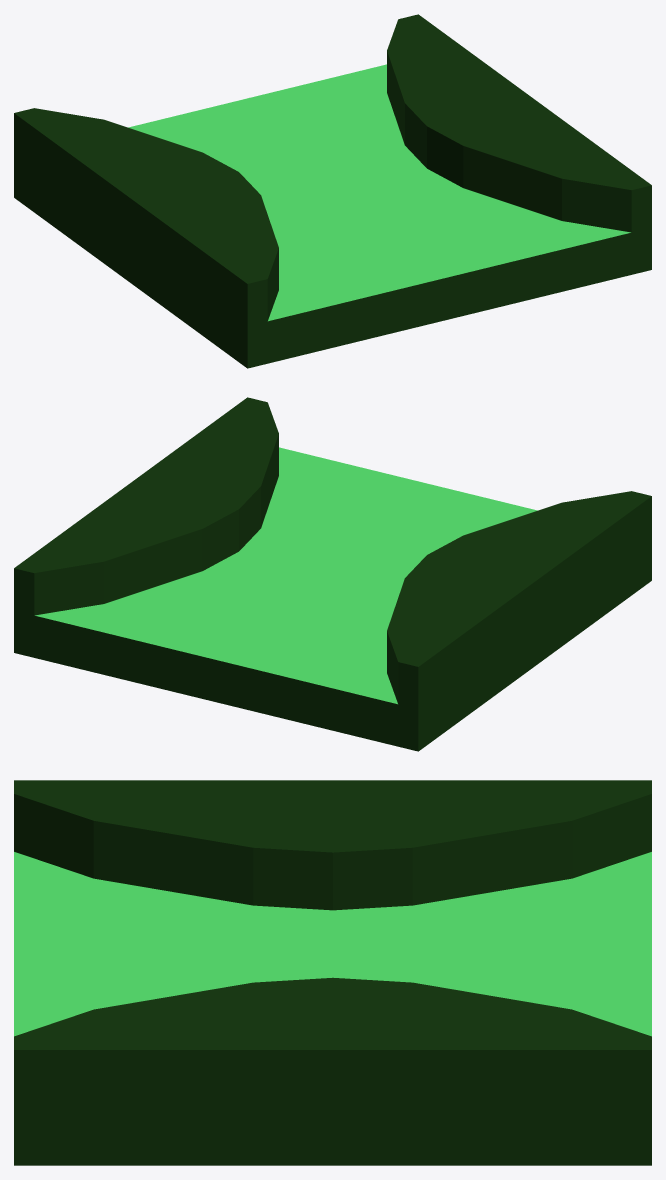
The model's file is MG Straight Curves.fbx.
The picture shows the model from 3 angles, top to bottom: view 1: azimuth 30°, elevation 25°; view 2: azimuth 150°, elevation 25°; view 3: azimuth 270°, elevation 25°; orthographic projection. The views are drawn at different scales.
Parts seen in each view (by area): view 1: MG Straight Curves; view 2: MG Straight Curves; view 3: MG Straight Curves.
Boxes of the visible parts, box(x1,y1,x2,y2) form: MG Straight Curves: box(14, 14, 651, 368); MG Straight Curves: box(14, 397, 651, 751); MG Straight Curves: box(14, 780, 651, 1165).
Bounding box in the file's own units: 200 × 40 × 200.
